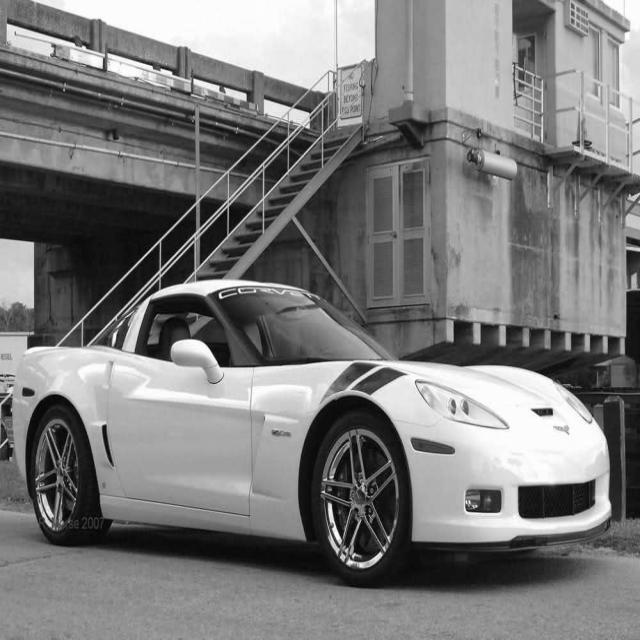car: (11, 277, 612, 586)
